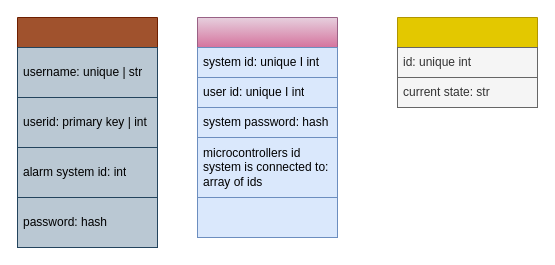
The diagram is 555 pixels wide and 265 high, and some of its shapes have lost their labels. The shapes that lost their labels are listed below. From the top down, each one's box as (x1, y1, x2, y2) in pixels, then its label:
(396, 16, 538, 108): Microcontroller table
(196, 16, 338, 198): alarm system table
(16, 16, 158, 248): User table
(196, 196, 338, 238): armed mode: true/false
